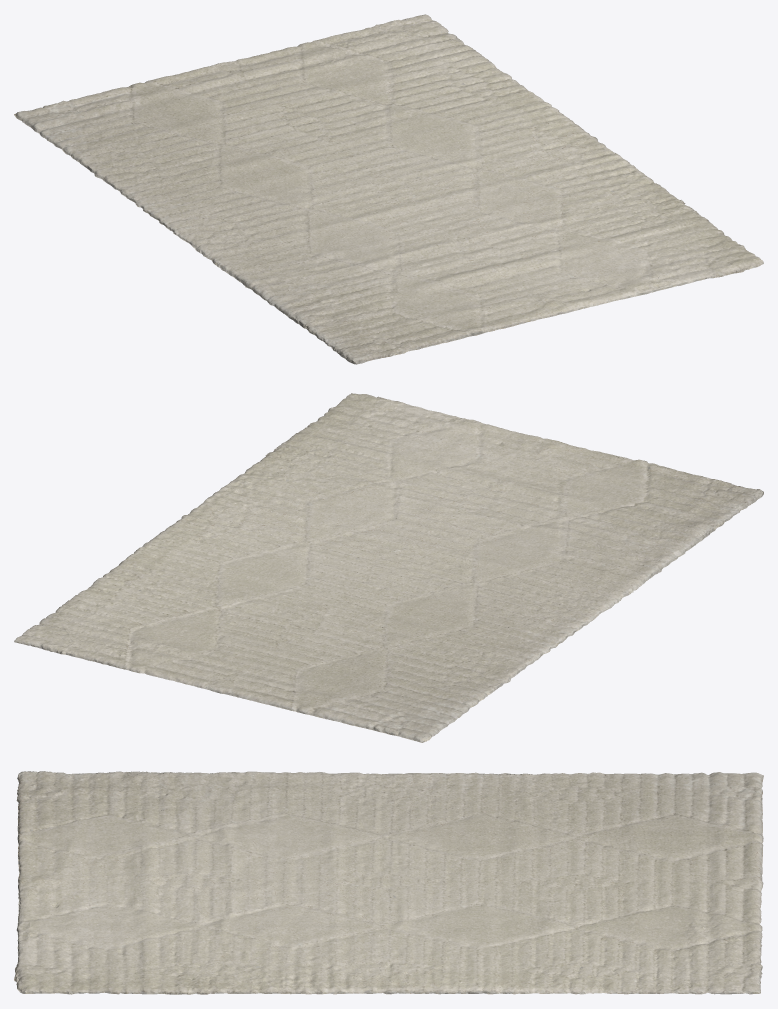
Rendered from scan_carpet_draco.glb.
3 views of the same model, one above another, from view 1: azimuth 30°, elevation 25°; view 2: azimuth 150°, elevation 25°; view 3: azimuth 270°, elevation 25° (orthographic). The views are drawn at different scales.
Parts seen in each view (by area): view 1: model, Rug Bottom; view 2: model, Rug Bottom; view 3: model, Rug Bottom.
Boxes of the visible parts, <box> form: model: <box>14,14,763,364</box>; Rug Bottom: <box>14,36,743,363</box>; model: <box>14,393,763,742</box>; Rug Bottom: <box>18,398,763,742</box>; model: <box>14,771,763,994</box>; Rug Bottom: <box>14,774,763,994</box>.
Size of the model in its own units: 1.58 by 0.0211 by 2.27.
Materials: 2 (2 with a texture image).
